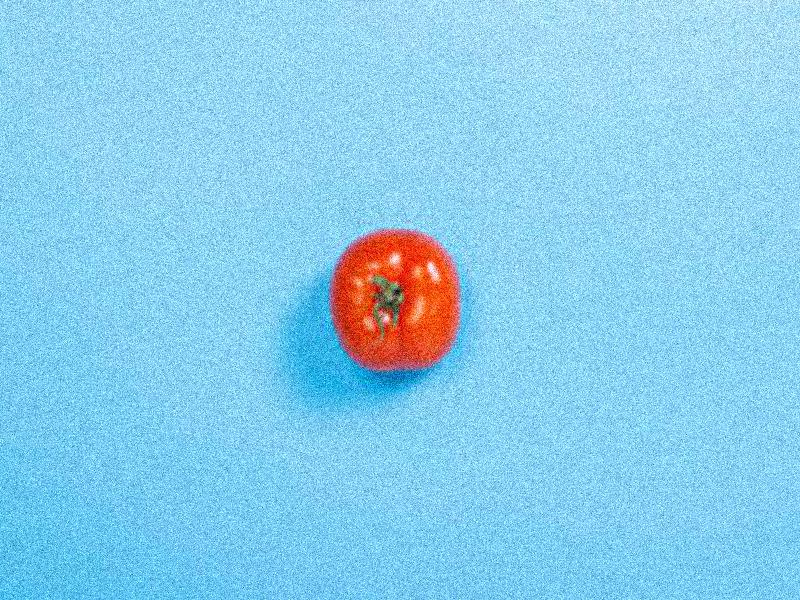Tomato: (325, 226, 459, 370)
